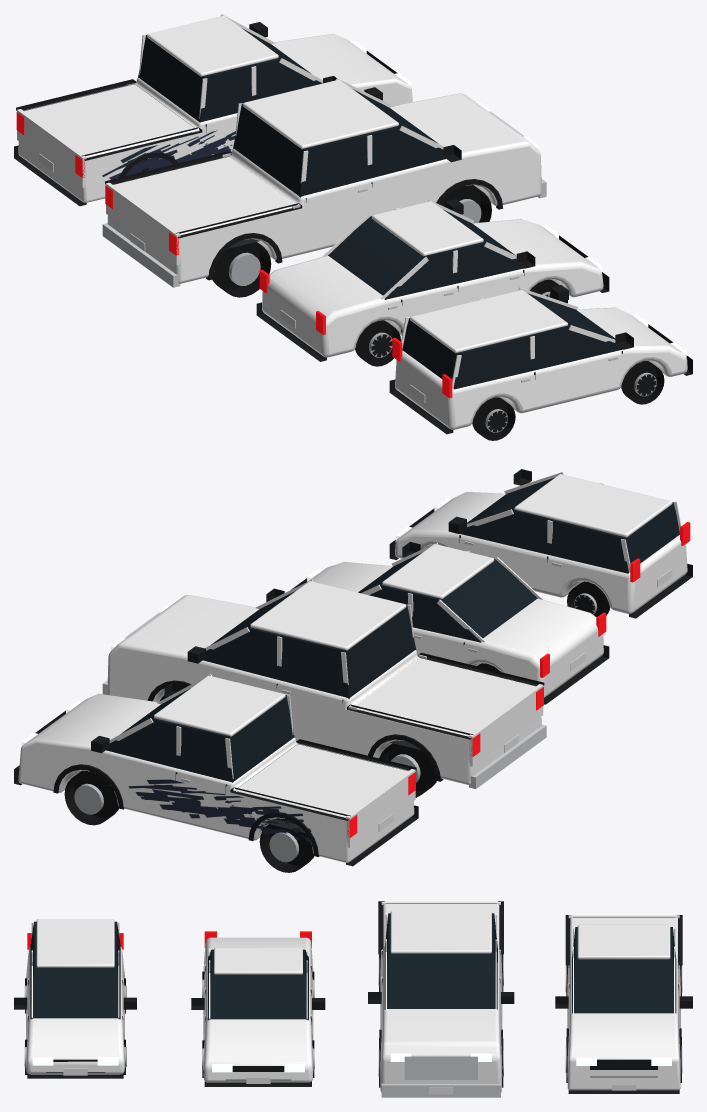
File: vehiculos.glb
The picture shows the model from 3 angles, top to bottom: view 1: azimuth 30°, elevation 25°; view 2: azimuth 150°, elevation 25°; view 3: azimuth 270°, elevation 25°; orthographic projection. The views are drawn at different scales.
Parts seen in each view (by area): view 1: ram_carroceria, camioneta_carroceria, sedan_carroceria, hatch_carroceria, ram_vidrios, hatch_vidrios, sedan_vidrios, camioneta_vidrios, ram_techo, hatch_techo, camioneta_techo, ram (+12 smaller); view 2: ram_carroceria, camioneta_carroceria, sedan_carroceria, hatch_carroceria, ram_vidrios, hatch_vidrios, camioneta_vidrios, sedan_vidrios, ram_techo, hatch_techo, camioneta_techo, sedan_techo (+14 smaller); view 3: camioneta_carroceria, ram_carroceria, sedan_carroceria, ram_vidrios, camioneta_vidrios, hatch_carroceria, hatch_vidrios, sedan_vidrios, ram_techo, hatch_techo, camioneta_techo, sedan_techo (+10 smaller).
Part boxes in pixels (left/top/right/bottom): ram_carroceria: left=107, top=93, right=541, bottom=283; camioneta_carroceria: left=18, top=33, right=412, bottom=202; sedan_carroceria: left=262, top=219, right=603, bottom=357; hatch_carroceria: left=395, top=307, right=687, bottom=429; ram_vidrios: left=233, top=89, right=445, bottom=197; hatch_vidrios: left=402, top=293, right=622, bottom=389; sedan_vidrios: left=328, top=209, right=523, bottom=299; camioneta_vidrios: left=138, top=28, right=322, bottom=122; ram_techo: left=242, top=79, right=398, bottom=149; hatch_techo: left=410, top=289, right=567, bottom=353; camioneta_techo: left=147, top=15, right=278, bottom=76; ram: left=206, top=126, right=503, bottom=297; ram_carroceria: left=107, top=595, right=541, bottom=785; camioneta_carroceria: left=18, top=693, right=414, bottom=862; sedan_carroceria: left=307, top=562, right=603, bottom=697; hatch_carroceria: left=395, top=492, right=687, bottom=614; ram_vidrios: left=203, top=591, right=416, bottom=699; hatch_vidrios: left=460, top=477, right=679, bottom=573; camioneta_vidrios: left=106, top=688, right=294, bottom=782; sedan_vidrios: left=358, top=552, right=537, bottom=642; ram_techo: left=250, top=581, right=406, bottom=650; hatch_techo: left=514, top=474, right=672, bottom=537; camioneta_techo: left=154, top=675, right=285, bottom=736; sedan_techo: left=382, top=544, right=494, bottom=598; camioneta_carroceria: left=567, top=917, right=680, bottom=1090; ram_carroceria: left=380, top=904, right=502, bottom=1092; sedan_carroceria: left=203, top=937, right=313, bottom=1082; ram_vidrios: left=384, top=913, right=497, bottom=1009; camioneta_vidrios: left=572, top=927, right=676, bottom=1013; hatch_carroceria: left=26, top=946, right=124, bottom=1074; hatch_vidrios: left=30, top=921, right=120, bottom=1019; sedan_vidrios: left=207, top=949, right=308, bottom=1020; ram_techo: left=390, top=911, right=491, bottom=953; hatch_techo: left=36, top=919, right=114, bottom=967; camioneta_techo: left=577, top=924, right=670, bottom=959; sedan_techo: left=214, top=947, right=302, bottom=974.
Size of the model in its own units: 5.99 by 1.99 by 11.14.
11 materials, 1 textured.
